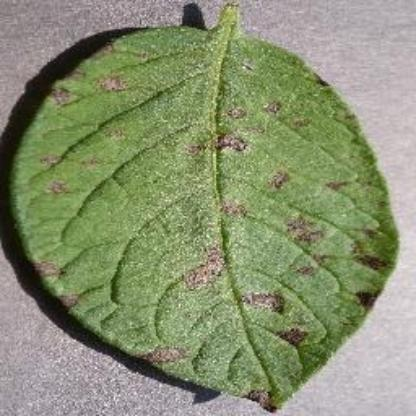Early-Blight: (5, 0, 414, 412)
